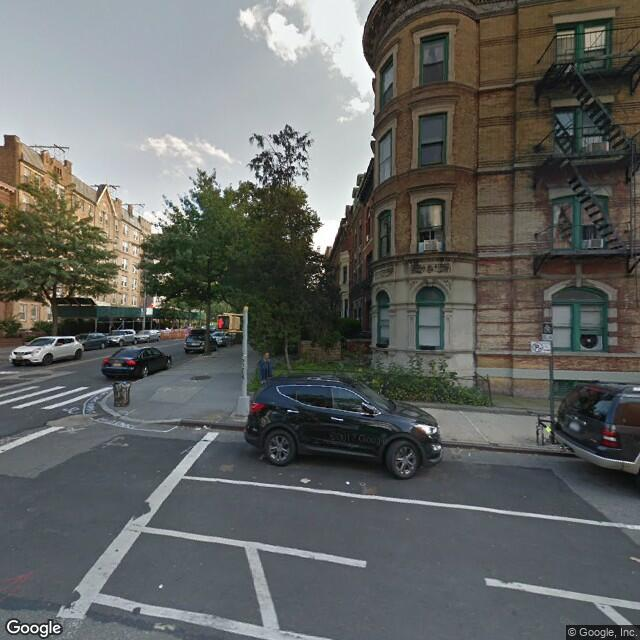litter: (193, 423, 215, 435), (155, 582, 166, 596), (300, 475, 310, 487), (627, 553, 640, 562), (360, 482, 368, 490), (345, 479, 352, 486), (466, 450, 472, 458), (275, 472, 284, 477)
